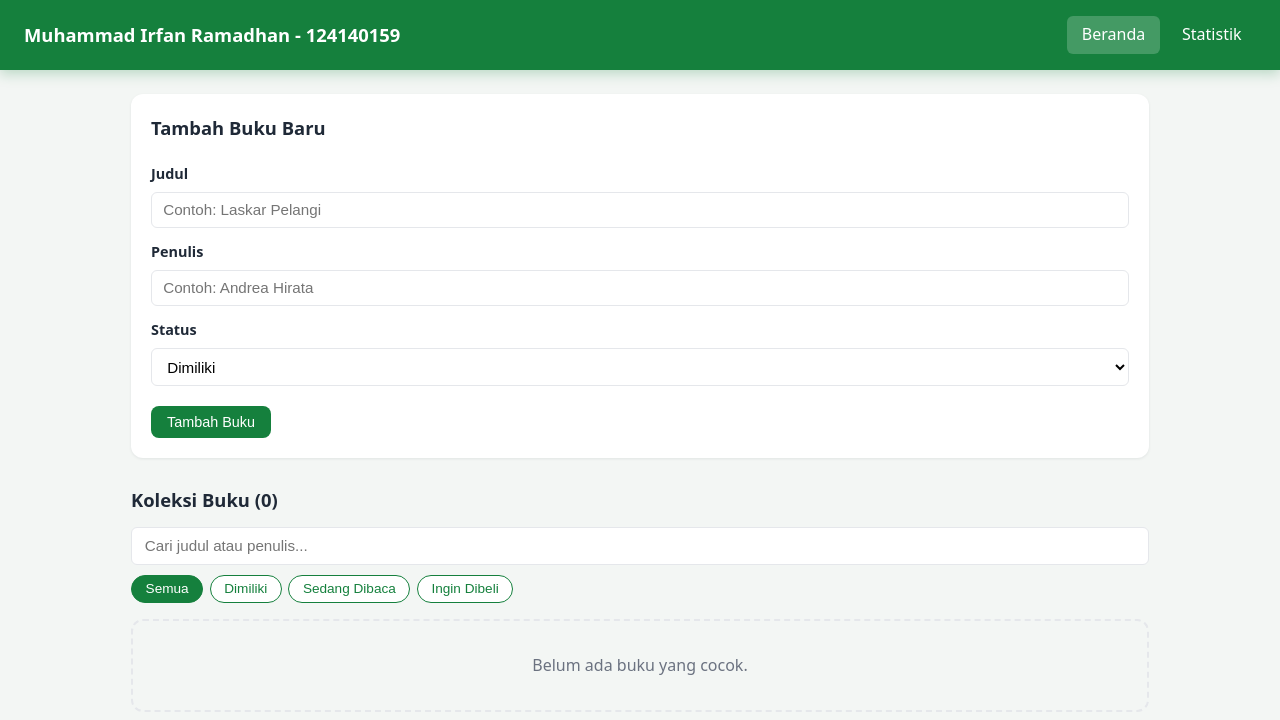
Aplikasi Manajemen Buku › menghapus buku dari daftar
Type "Bumi" into the field labelled "Judul". click: (640, 210)
box: [151,192,1129,228]
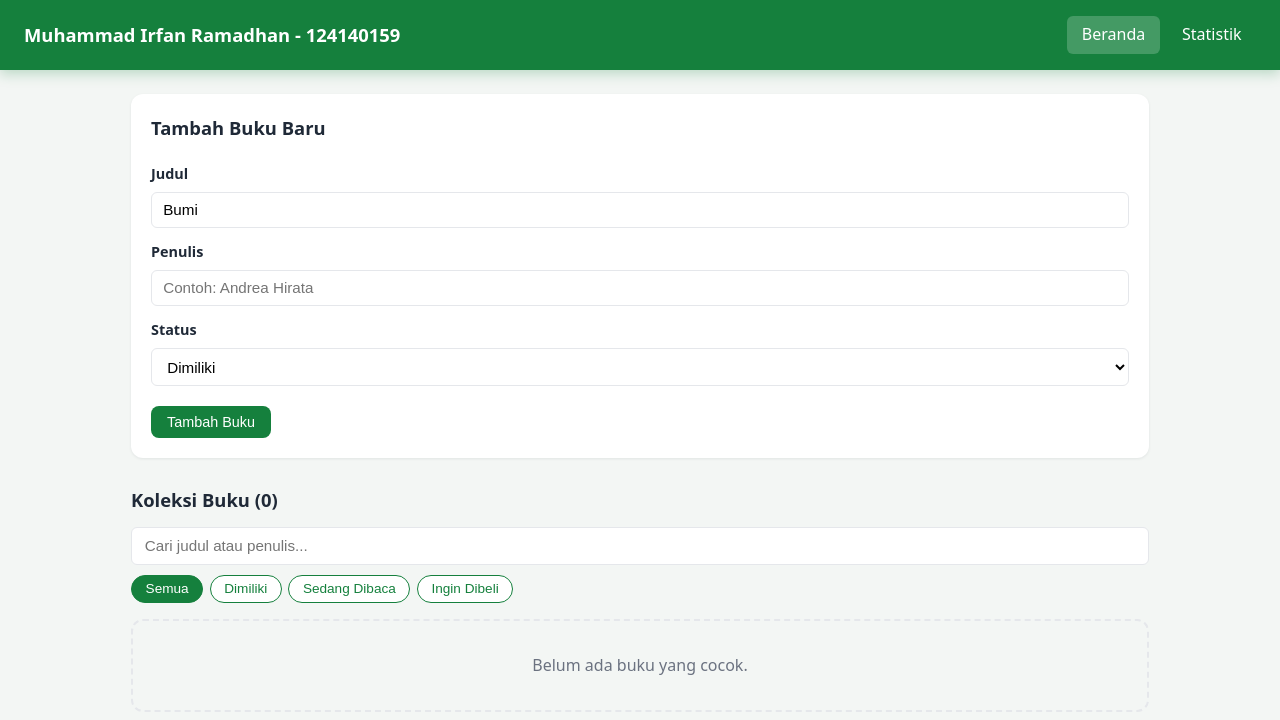
Type "Tere Liye" into the field labelled "Penulis". click: (640, 288)
box: [151,270,1129,306]
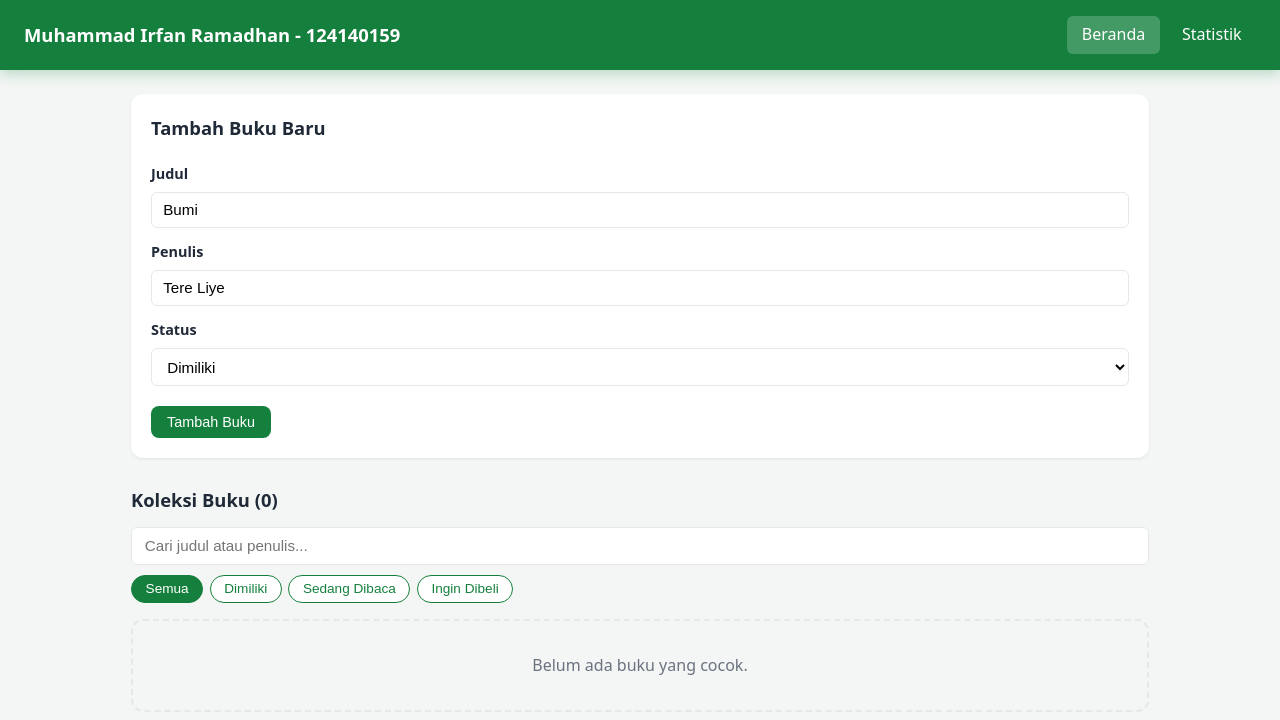
Select "Dimiliki" in the dropdown labelled "Status". click: (640, 367)
box: [151,348,1129,386]
Click the button "Tambah Buku". click: (211, 422)
box: [151,406,271,438]
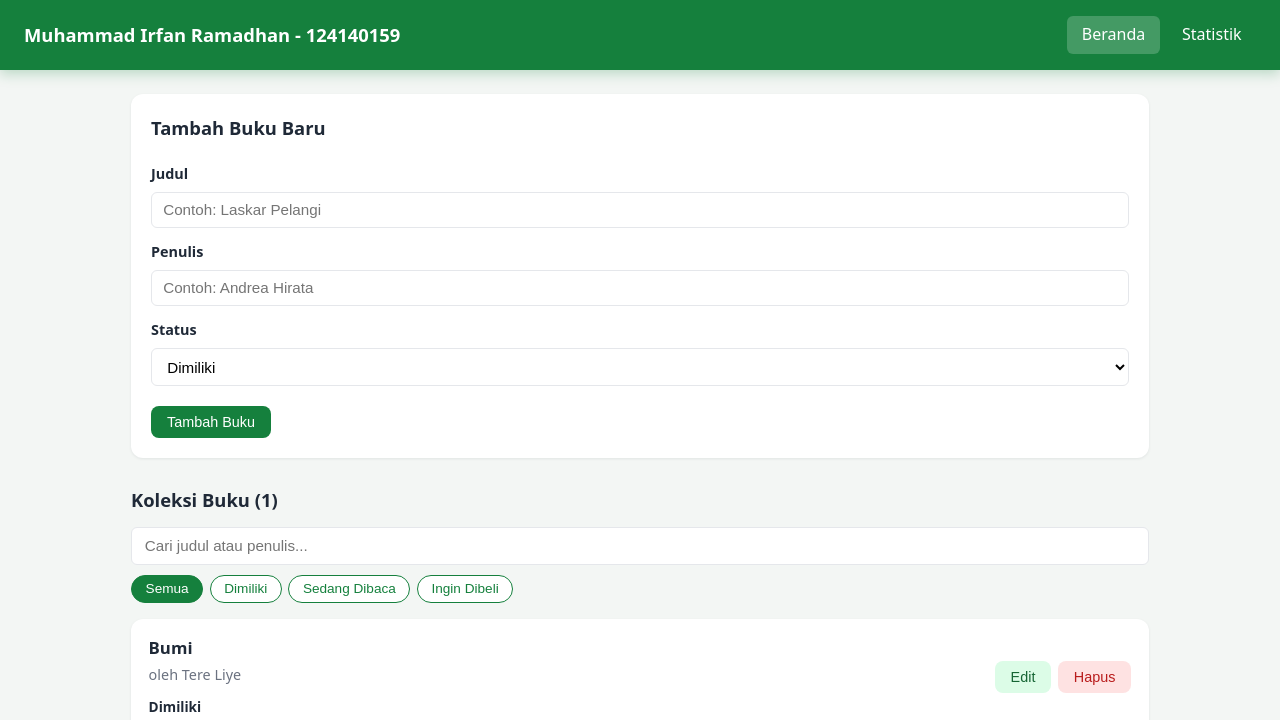
Click the button "Hapus". click: (1095, 677)
box: [1058,661,1131,693]
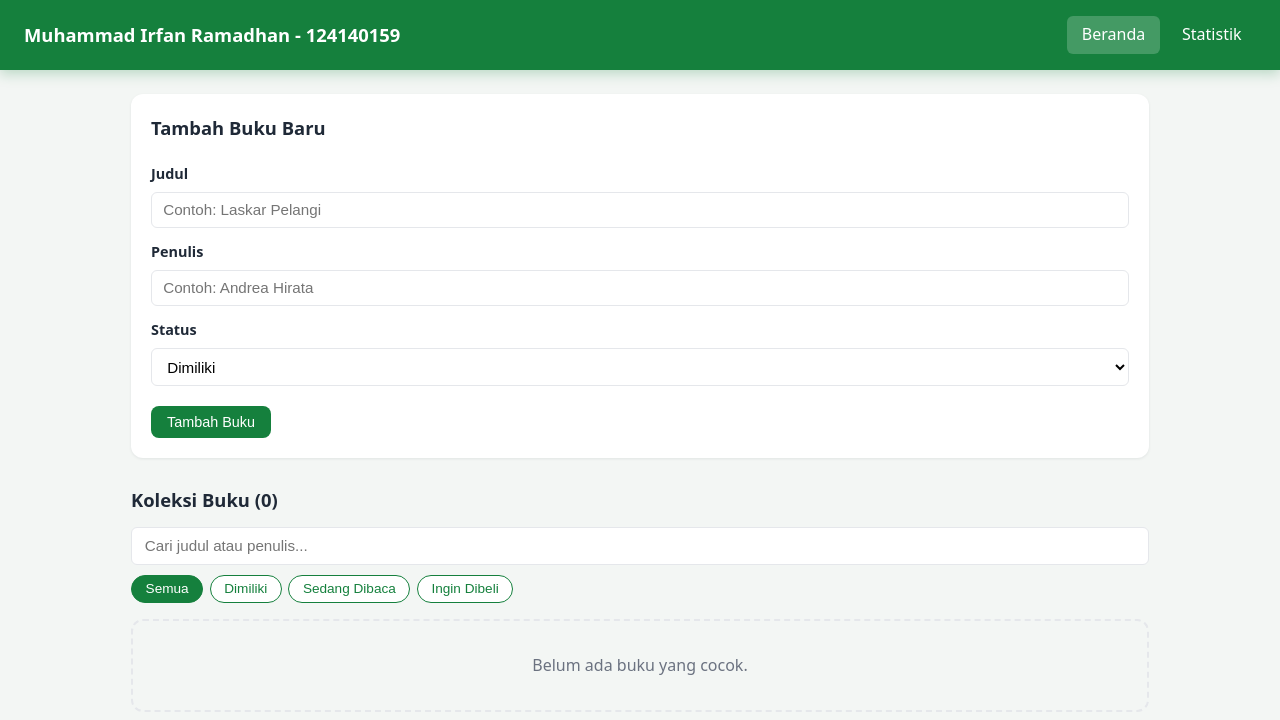
Result: the heading "Bumi" is gone
Result: the text "Belum ada buku yang cocok." is shown at [131,619,1149,712]
